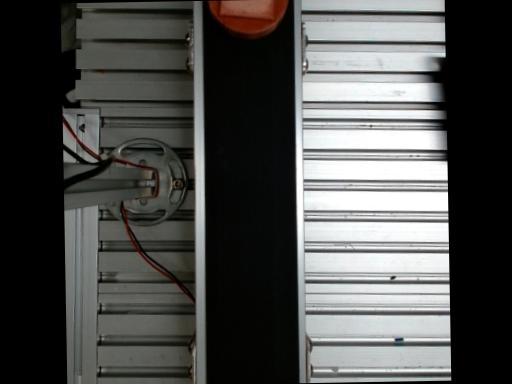Brown_Waper: (207, 0, 289, 38)
Not_Square: (220, 0, 276, 20)
